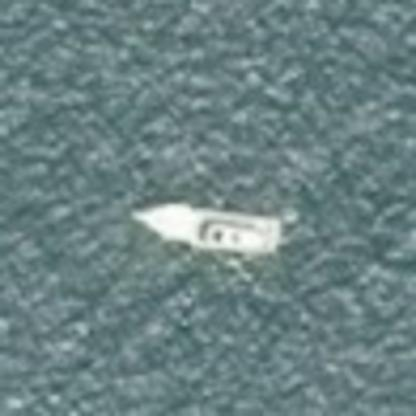ship: (122, 197, 288, 269)
